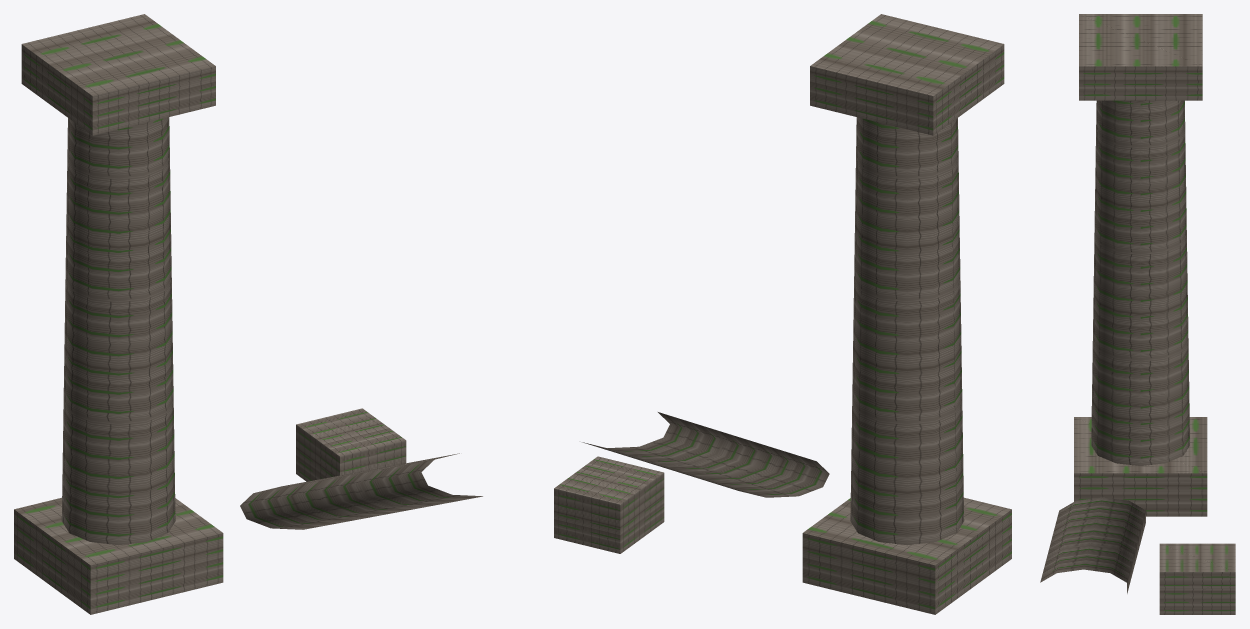
Rendered from ancient_ruin_pillar.glb.
3 renders of one model, left to right at view 1: azimuth 30°, elevation 25°; view 2: azimuth 150°, elevation 25°; view 3: azimuth 270°, elevation 25°, orthographic. The views are drawn at different scales.
Visible parts, largest first — view 1: ancient_ruin_pillar; view 2: ancient_ruin_pillar; view 3: ancient_ruin_pillar.
Boxes of the visible parts, x1=… form: ancient_ruin_pillar: x1=14, y1=14, x2=482, y2=614; ancient_ruin_pillar: x1=554, y1=14, x2=1011, y2=614; ancient_ruin_pillar: x1=1040, y1=14, x2=1235, y2=614.
Bounding box in the file's own units: 4.58 × 5.2 × 2.06.
1 material, 1 textured.
